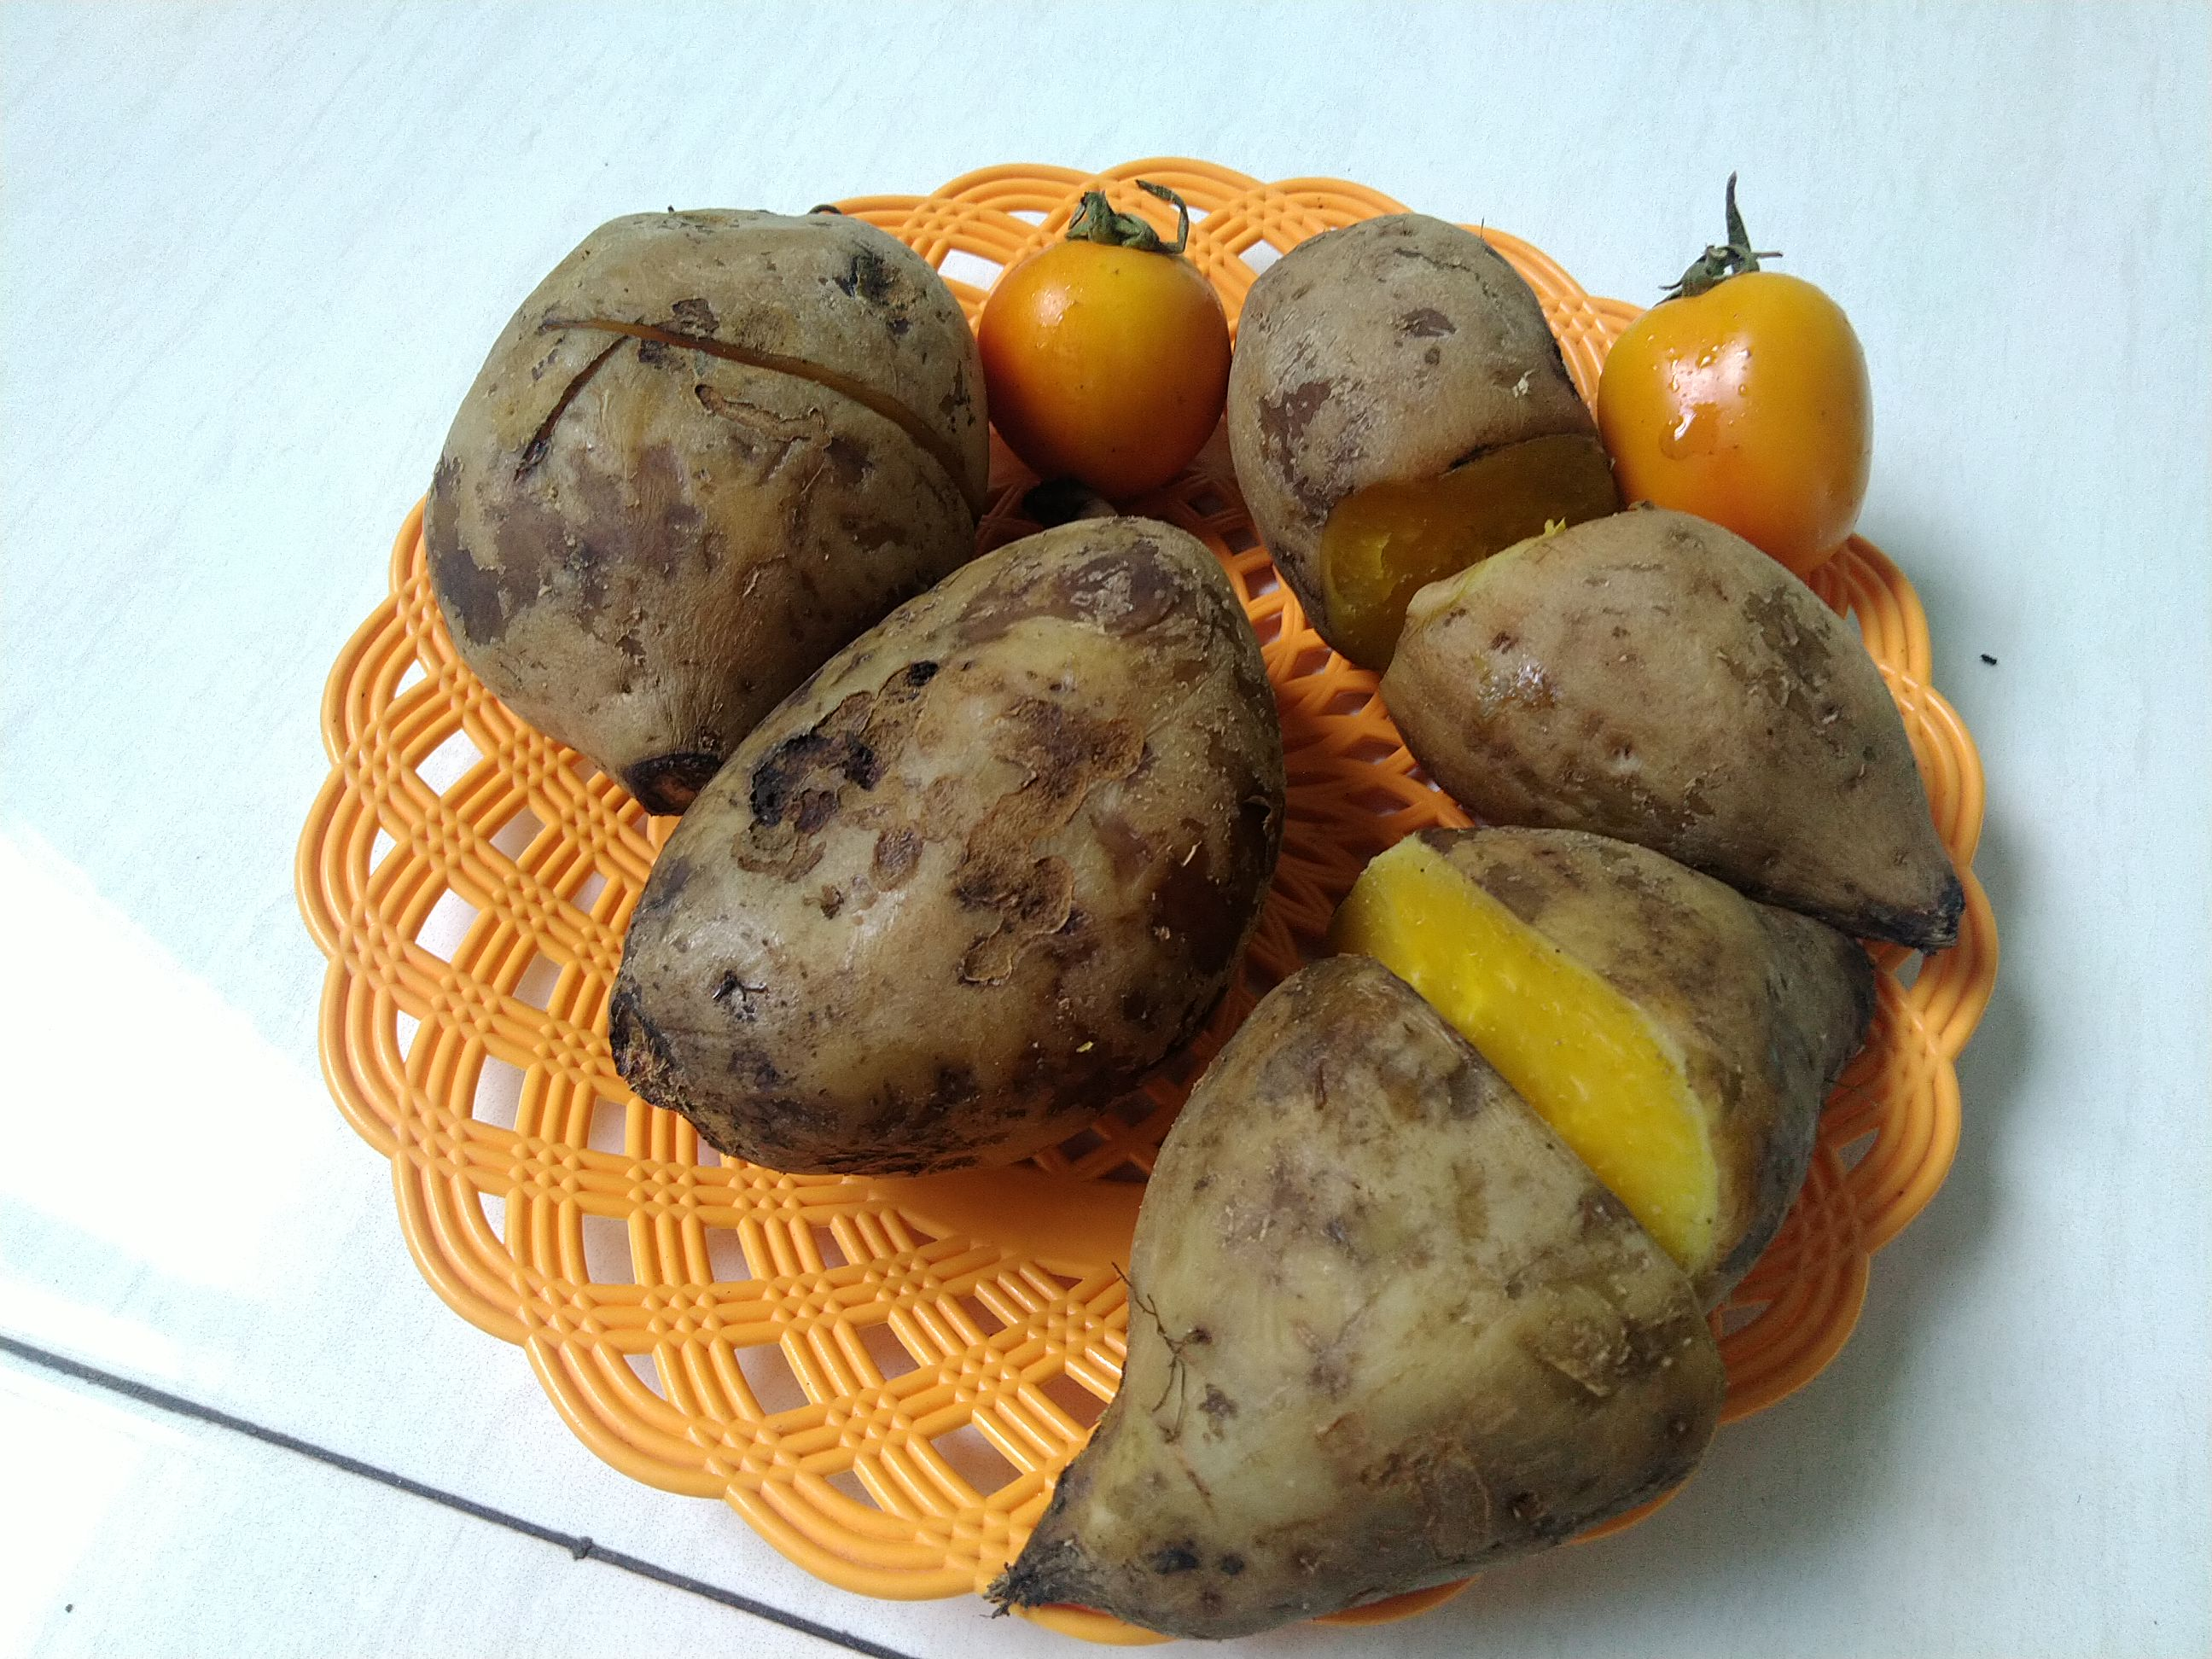ubi kuning: (974, 809, 1933, 1638), (590, 528, 1268, 1164), (394, 174, 995, 819), (1385, 502, 1973, 958), (1223, 207, 1625, 657)
